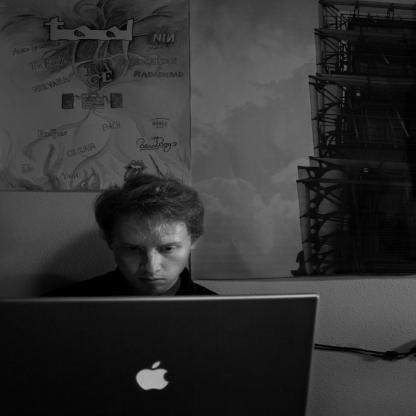board: (0, 293, 321, 416)
